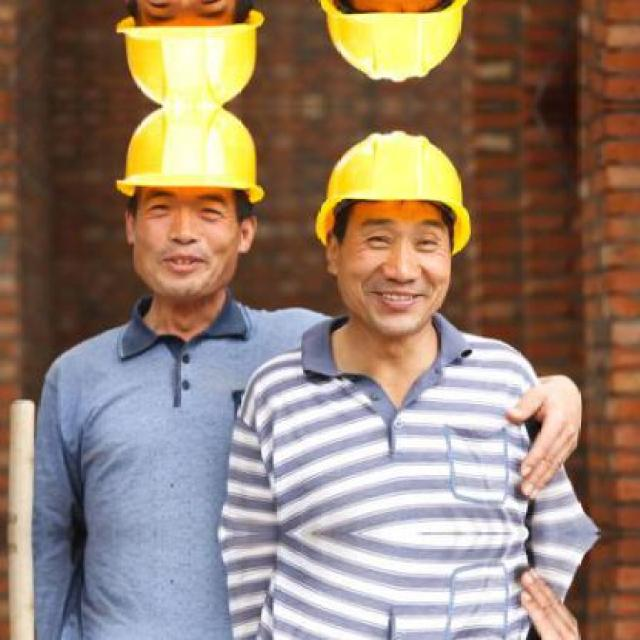helmet: (292, 117, 496, 341), (102, 107, 282, 314), (291, 0, 497, 96), (101, 0, 283, 106)
